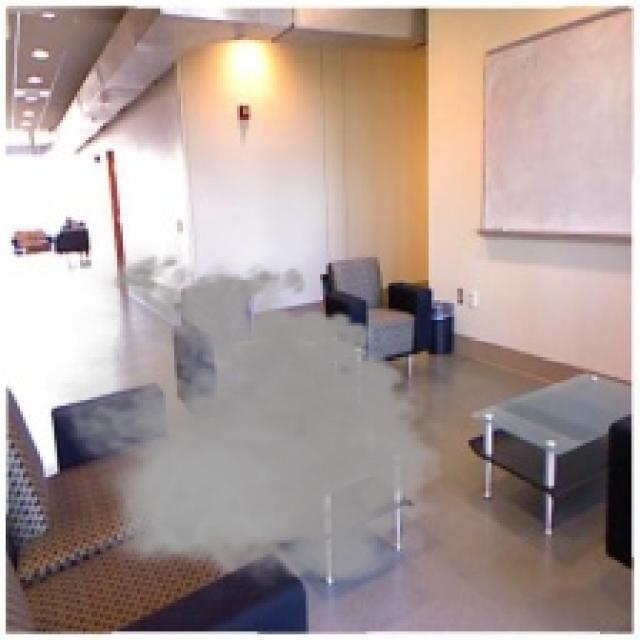Smoke: (46, 242, 457, 594)
